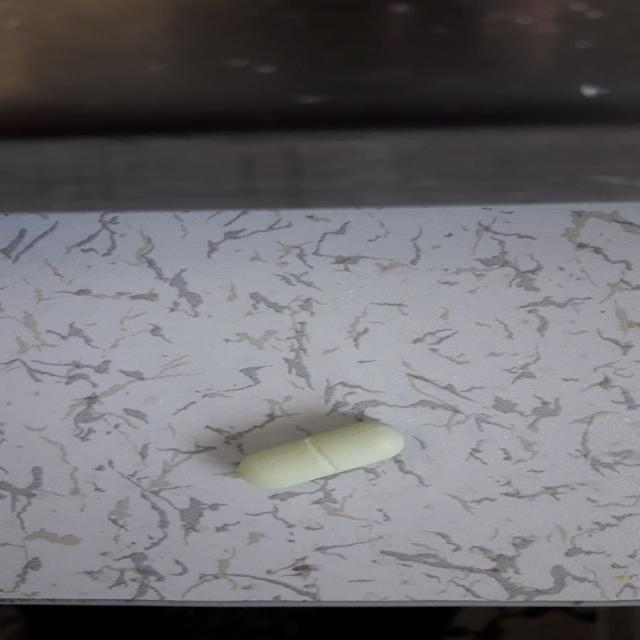pills: (211, 415, 437, 496)
